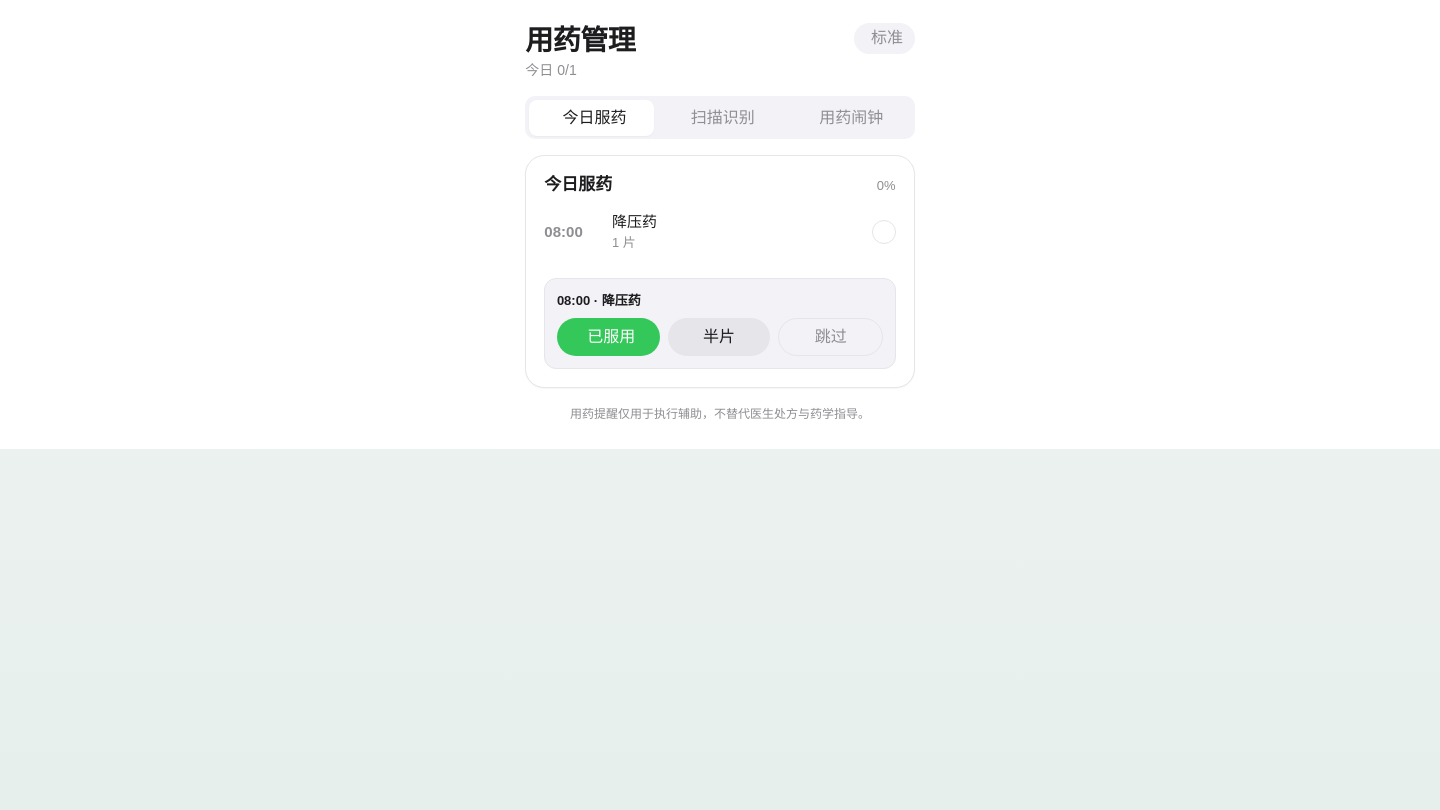
Test case: MedicationPage › renders elder mode toggle
Click the button "标准" at (884, 38), box [854,23,915,54]
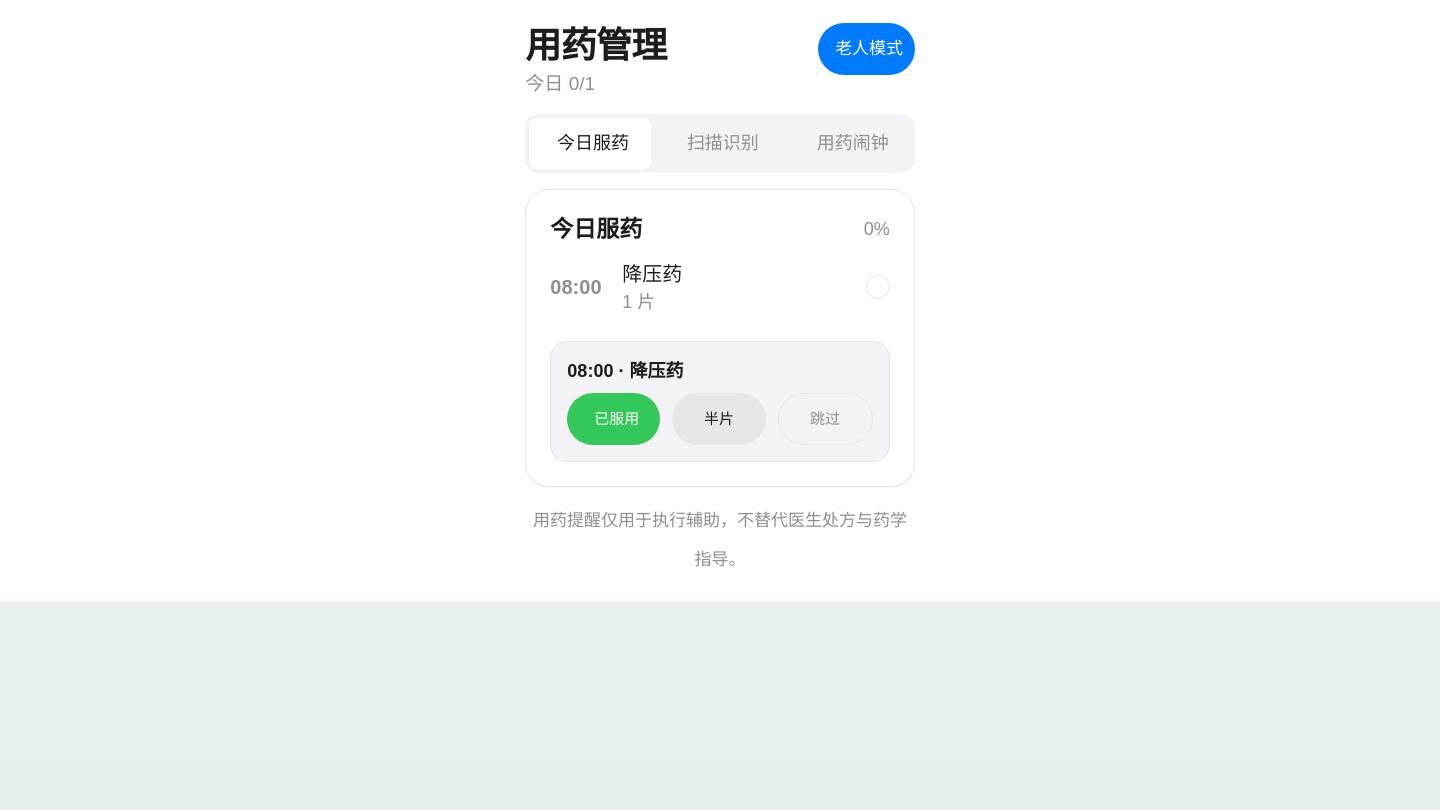
Expected: the button "老人模式" is shown, [818,23,915,75]
